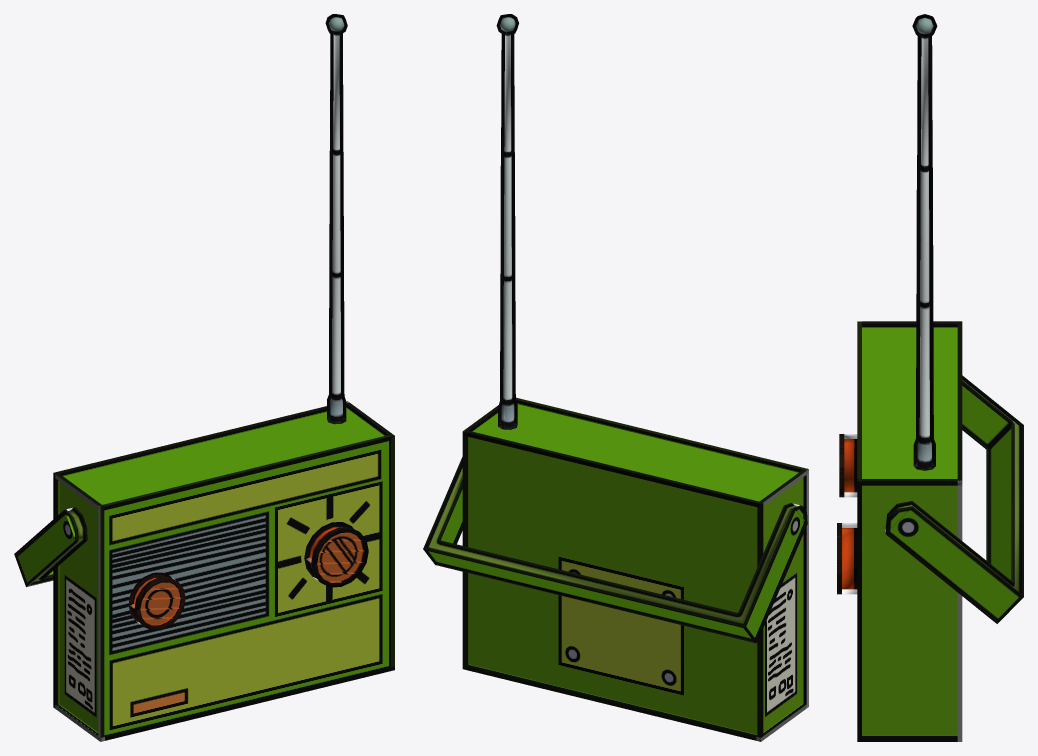
File: radio.glb
The picture shows the model from 3 angles, left to right: view 1: azimuth 30°, elevation 25°; view 2: azimuth 150°, elevation 25°; view 3: azimuth 270°, elevation 25°; orthographic projection. The views are drawn at different scales.
Parts seen in each view (by area): view 1: Radio, Antenna, Handle; view 2: Radio, Handle, Antenna; view 3: Radio, Handle, Antenna.
Part boxes in pixels (x1,y1,x2,y2): Radio: (53,401,394,741); Antenna: (325,14,347,424); Handle: (14,507,87,587); Radio: (462,397,808,741); Handle: (423,457,807,643); Antenna: (496,14,518,429); Radio: (837,321,962,741); Handle: (885,375,1023,623); Antenna: (912,14,937,470).
Bounding box in the file's own units: 0.8358 × 1.61 × 0.3836.
Materials: 4 (2 with a texture image).
